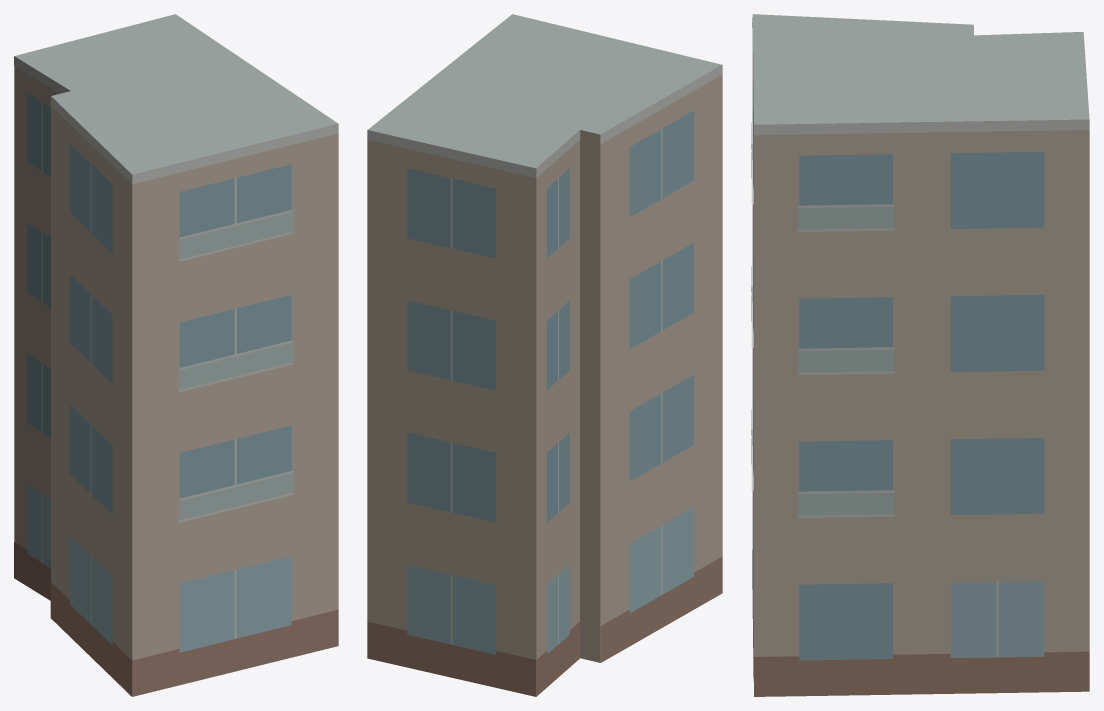
File: survey-upis-32465389.glb
3 views of the same model, side by side, from view 1: azimuth 30°, elevation 25°; view 2: azimuth 150°, elevation 25°; view 3: azimuth 270°, elevation 25° (orthographic). The views are drawn at different scales.
Parts seen in each view (by area): view 1: survey-upis-32465389.tmp; view 2: survey-upis-32465389.tmp; view 3: survey-upis-32465389.tmp.
Boxes of the visible parts, x1,y1,x2,y2 form: survey-upis-32465389.tmp: [14, 14, 338, 696]; survey-upis-32465389.tmp: [367, 14, 722, 696]; survey-upis-32465389.tmp: [751, 14, 1089, 696].
Bounding box in the file's own units: 5.53 × 13.3 × 7.14.
